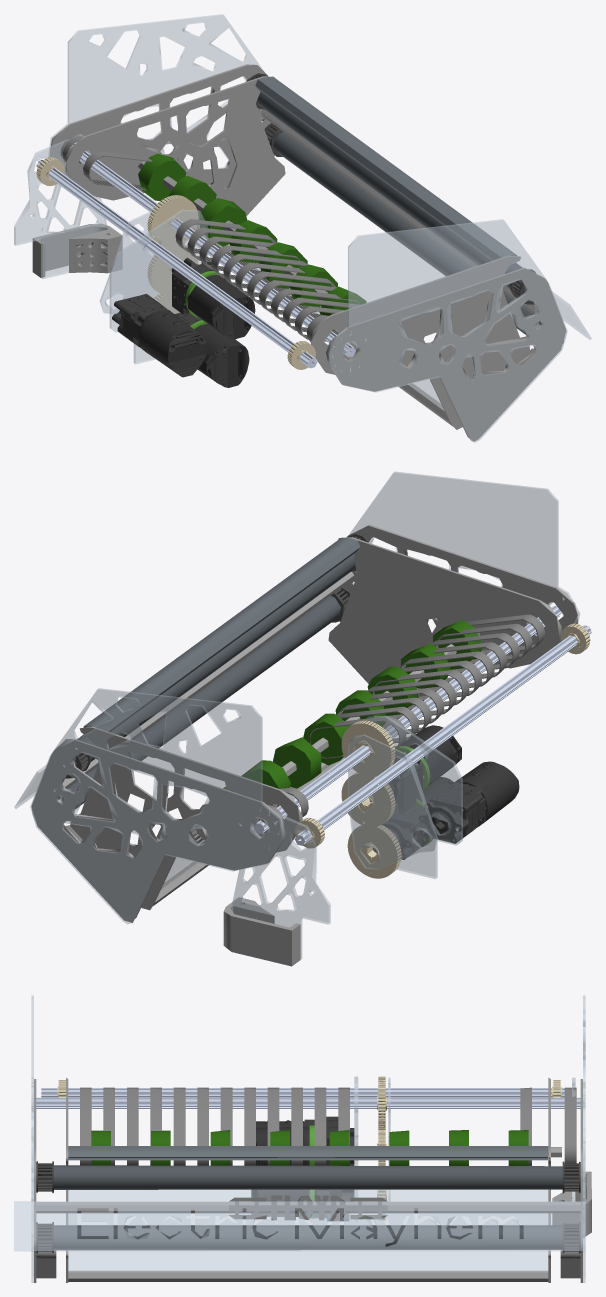
File: 4930-intake.glb
3 views of the same model, one above another, from view 1: azimuth 30°, elevation 25°; view 2: azimuth 150°, elevation 25°; view 3: azimuth 270°, elevation 25° (orthographic). The views are drawn at different scales.
Parts seen in each view (by area): view 1: Part 21, Part 26, Part 47, Intake-Floor 60T HTD Belt, Part 40, am-churro 500 churro tube, Part 46, Kraken X60 Brushless Motor, Kraken X60 Back Cap (WCP), 26t Aluminum Spur Gear (20 DP, 1/2" Hex Bore), TTB-R-001; view 2: Part 21, Part 26, Part 47, Intake-Floor 60T HTD Belt, 26t Aluminum Spur Gear (20 DP, 1/2" Hex Bore), Part 40, am-churro 500 churro tube, Part 46, Kraken X60 Back Cap (WCP), Kraken X60 Brushless Motor, TTB-R-001; view 3: Part 21, Part 47, Part 26, Intake-Floor 60T HTD Belt, am-churro 500 churro tube, Part 46, Part 45, Part 40, TTB-R-001, Kraken X60 Brushless Motor, 26t Aluminum Spur Gear (20 DP, 1/2" Hex Bore), Kraken X60 Back Cap (WCP).
Part boxes in pixels (bbox=[...]): Part 21: bbox=[14, 14, 591, 442]; Part 26: bbox=[32, 64, 566, 441]; Part 47: bbox=[256, 92, 533, 334]; Intake-Floor 60T HTD Belt: bbox=[60, 135, 360, 345]; Part 40: bbox=[138, 153, 366, 330]; am-churro 500 churro tube: bbox=[36, 143, 355, 368]; Part 46: bbox=[255, 76, 516, 260]; Kraken X60 Brushless Motor: bbox=[138, 275, 255, 387]; Kraken X60 Back Cap (WCP): bbox=[112, 256, 233, 387]; 26t Aluminum Spur Gear (20 DP, 1/2" Hex Bore): bbox=[36, 157, 315, 369]; TTB-R-001: bbox=[246, 73, 563, 342]; Part 21: bbox=[14, 471, 580, 959]; Part 26: bbox=[31, 524, 577, 966]; Part 47: bbox=[66, 554, 355, 809]; Intake-Floor 60T HTD Belt: bbox=[190, 614, 544, 844]; 26t Aluminum Spur Gear (20 DP, 1/2" Hex Bore): bbox=[295, 623, 590, 878]; Part 40: bbox=[223, 620, 482, 806]; am-churro 500 churro tube: bbox=[254, 605, 591, 845]; Part 46: bbox=[83, 537, 360, 731]; Kraken X60 Back Cap (WCP): bbox=[369, 736, 518, 859]; Kraken X60 Brushless Motor: bbox=[400, 725, 519, 823]; TTB-R-001: bbox=[61, 533, 368, 801]; Part 21: bbox=[14, 995, 585, 1282]; Part 47: bbox=[54, 1165, 562, 1250]; Part 26: bbox=[34, 1078, 591, 1282]; Intake-Floor 60T HTD Belt: bbox=[80, 1087, 576, 1165]; am-churro 500 churro tube: bbox=[31, 1088, 585, 1108]; Part 46: bbox=[68, 1146, 548, 1160]; Part 45: bbox=[36, 1195, 580, 1278]; Part 40: bbox=[91, 1130, 528, 1165]; TTB-R-001: bbox=[36, 1161, 580, 1253]; Kraken X60 Brushless Motor: bbox=[251, 1120, 309, 1216]; 26t Aluminum Spur Gear (20 DP, 1/2" Hex Bore): bbox=[57, 1076, 561, 1220]; Kraken X60 Back Cap (WCP): bbox=[256, 1116, 354, 1221].
Size of the model in its own units: 0.4469 by 0.3261 by 0.7385.
